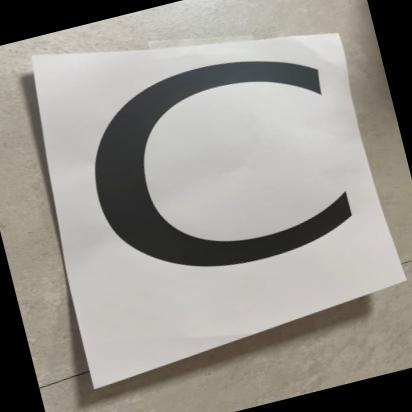seat: (1, 0, 412, 383)
